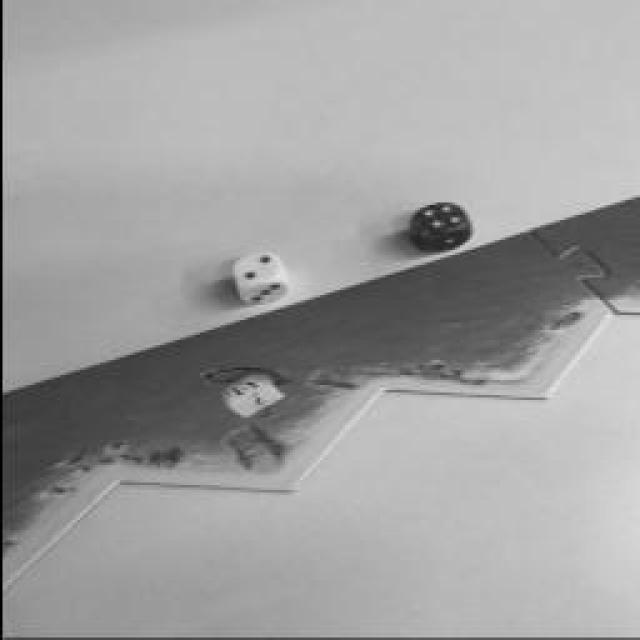dice_2: (229, 254, 281, 286)
dice_4: (412, 203, 468, 235)
